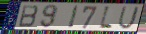7: (81, 5, 99, 30)
9: (40, 4, 59, 30)
B: (17, 4, 40, 28)
I: (67, 5, 80, 30)
L: (98, 5, 114, 30)
U: (116, 6, 140, 31)
